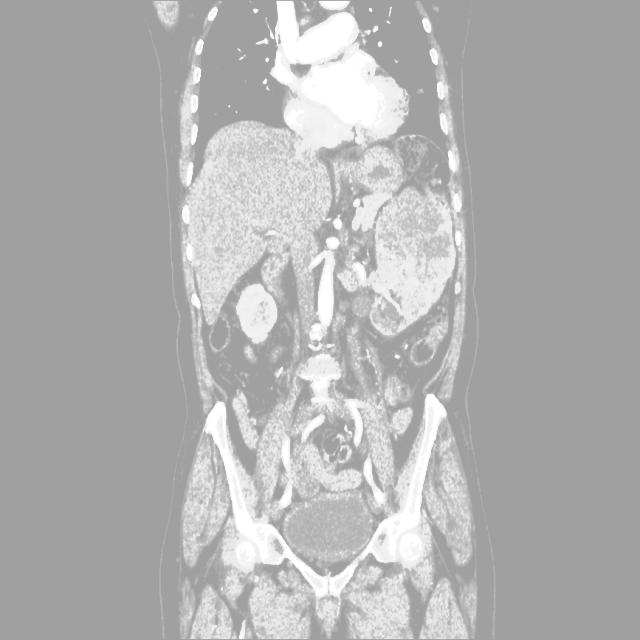TUMOR: (130, 254, 474, 394)
